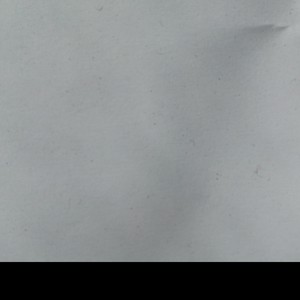base: (2, 1, 297, 261)
